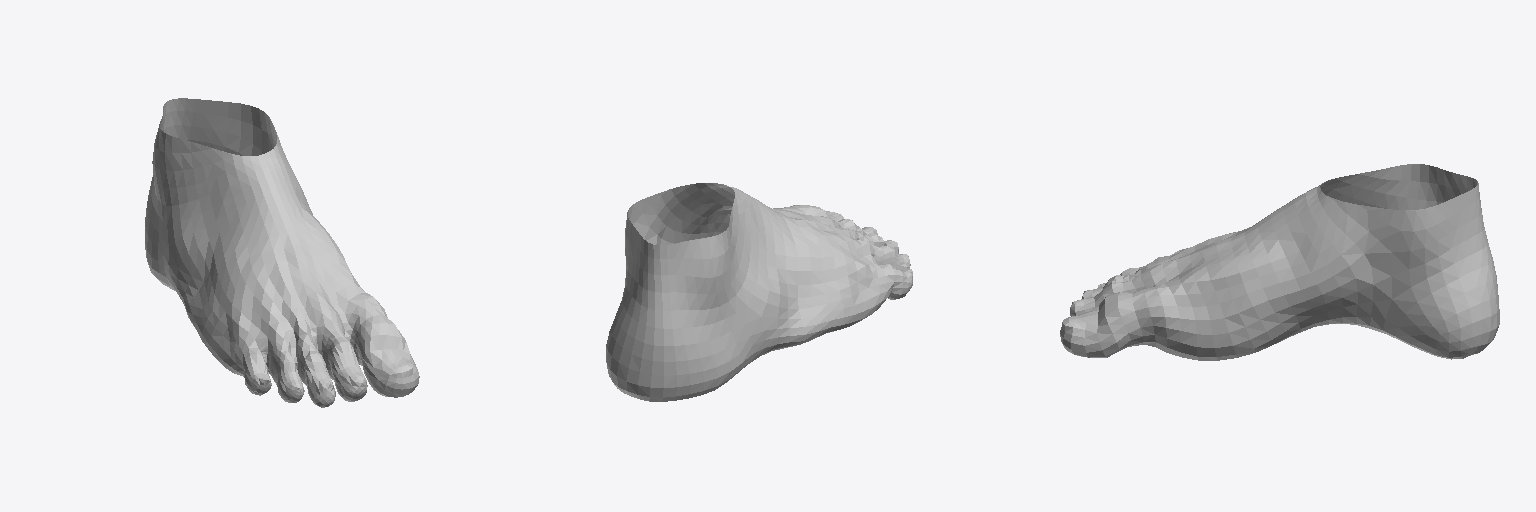
File: talpaD.obj
The picture shows the model from 3 angles: view 1: azimuth 30°, elevation 25°; view 2: azimuth 150°, elevation 25°; view 3: azimuth 270°, elevation 25°; orthographic projection.
Visible parts, largest first — view 1: talpaD; view 2: talpaD; view 3: talpaD.
Boxes of the visible parts, x1,y1,x2,y2 form: talpaD: [145, 98, 419, 407]; talpaD: [606, 183, 912, 401]; talpaD: [1060, 164, 1499, 360].
Bounding box in the file's own units: 1.31 × 1.36 × 3.36.